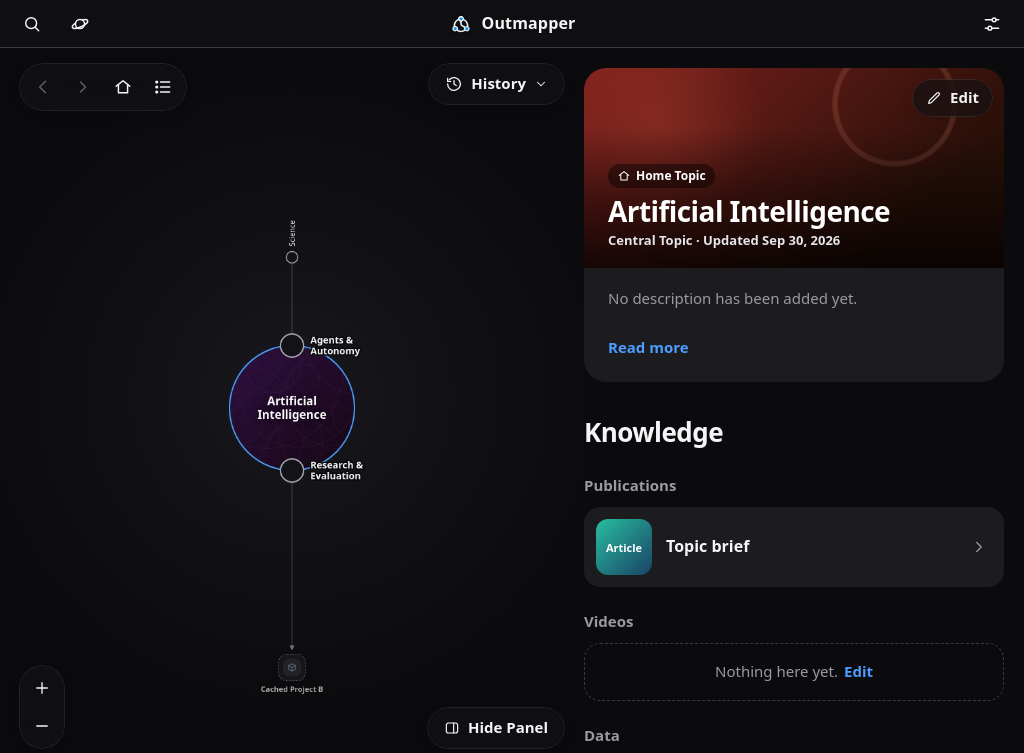
Test: radial Map Viewer › shows a cached unavailable portal and locates the target Project before opening it
Click the button named "Linked Project: Cached Project B, Connected via Agents & Autonomy": click(292, 667) 278,654 -> 306,681
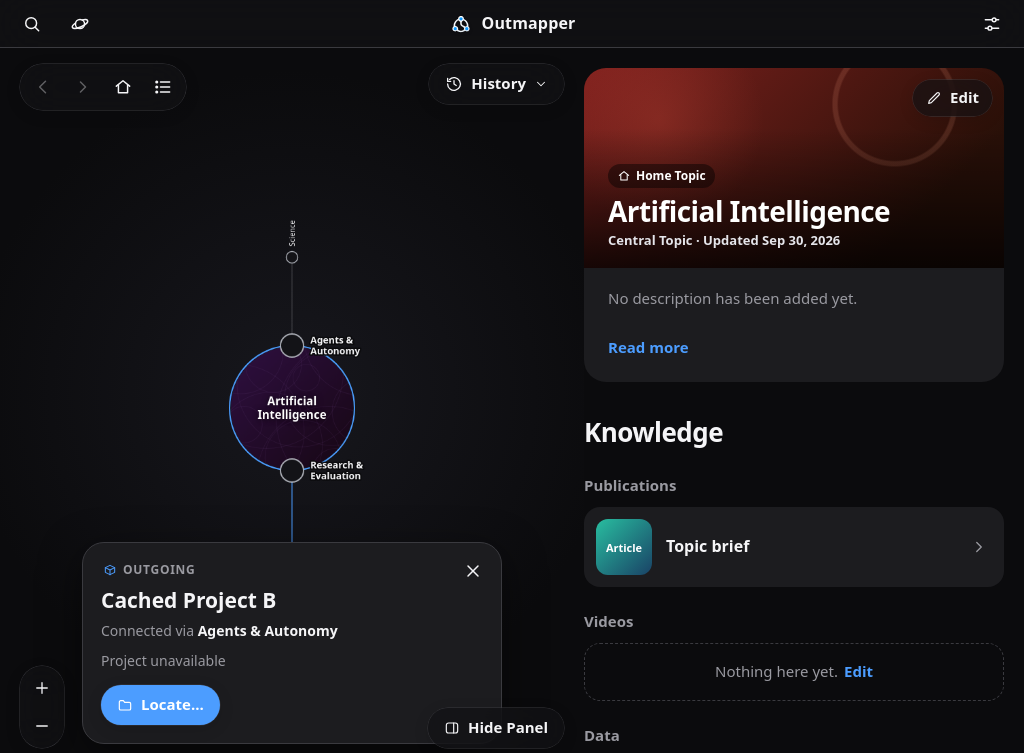
expect the text "Project unavailable" is shown: met, box 101,651 -> 226,670
Click the button "Locate...": click(160, 705) 101,685 -> 220,725
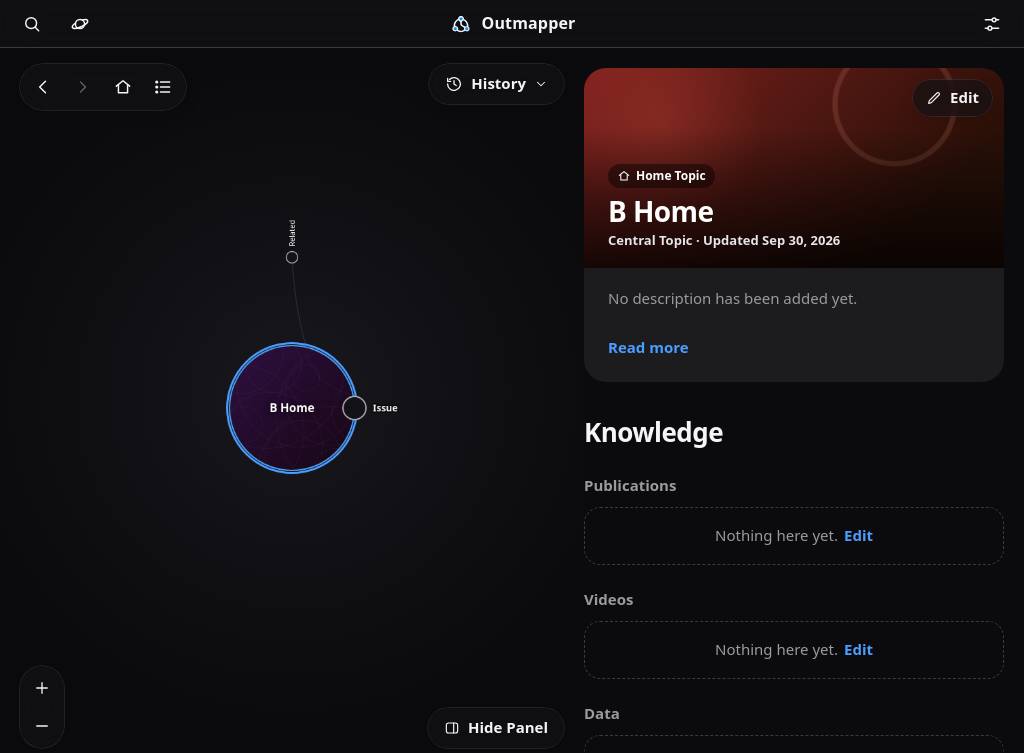
expect the button with aria-label "Central Topic: B Home" is shown: met, box 230,346 -> 354,470
